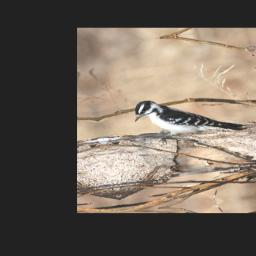Woodpecker: (129, 89, 252, 148)
